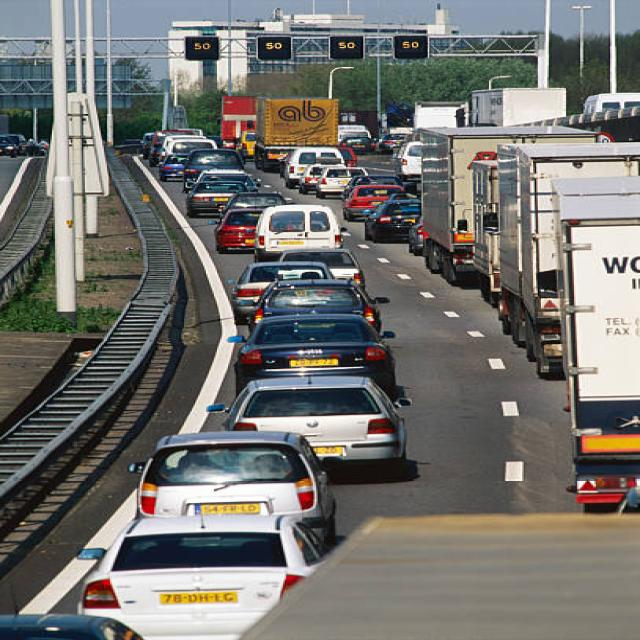high_traffic: (114, 123, 609, 600)
